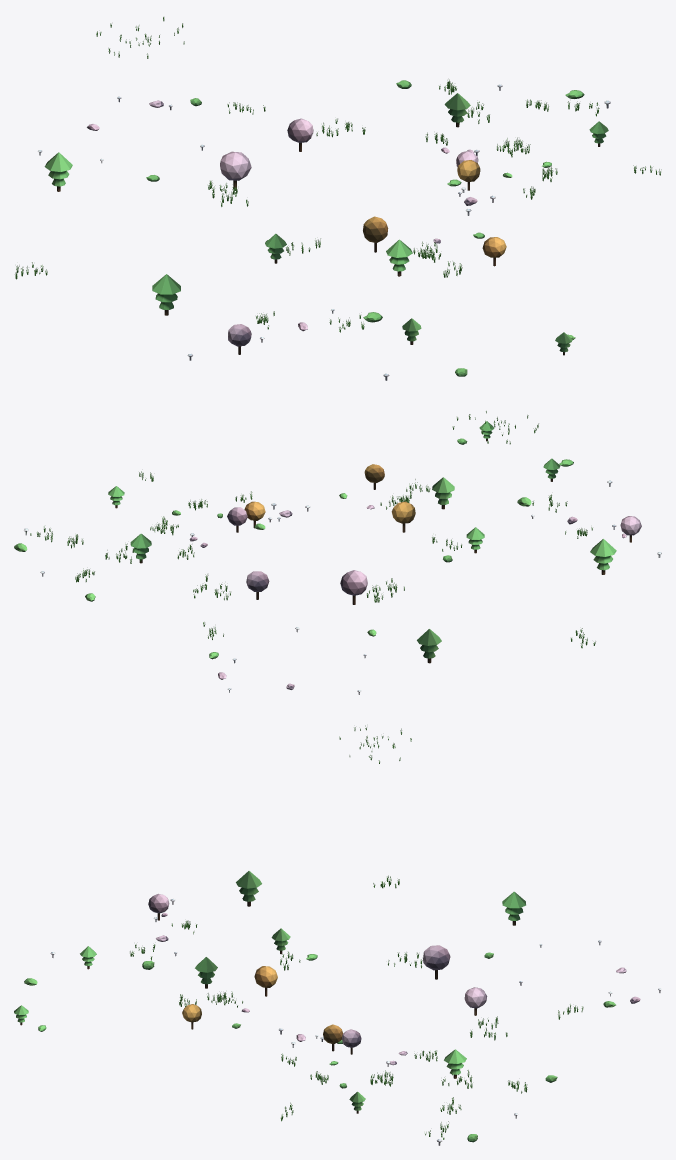
The model's file is foliage.glb.
3 renders of one model, top to bottom at view 1: azimuth 30°, elevation 25°; view 2: azimuth 150°, elevation 25°; view 3: azimuth 270°, elevation 25°, orthographic. The views are drawn at different scales.
Parts seen in each view (by area): view 1: tree_inst_sakur_01, tree_inst_green_04, tree_inst_green_03, tree_inst_red_m_00, tree_inst_green_00, tree_inst_sakur_03; view 2: tree_inst_sakur_01, tree_inst_green_04, tree_inst_green_03, tree_inst_red_m_00, tree_inst_green_00; view 3: no part large enough to name.
Part boxes in pixels (x1=…): tree_inst_sakur_01: x1=220, y1=151, x2=251, y2=190; tree_inst_green_04: x1=152, y1=274, x2=180, y2=315; tree_inst_green_03: x1=44, y1=152, x2=72, y2=191; tree_inst_red_m_00: x1=363, y1=216, x2=388, y2=252; tree_inst_green_00: x1=386, y1=239, x2=412, y2=276; tree_inst_sakur_03: x1=287, y1=118, x2=313, y2=151; tree_inst_sakur_01: x1=340, y1=570, x2=367, y2=604; tree_inst_green_04: x1=590, y1=539, x2=616, y2=574; tree_inst_green_03: x1=417, y1=629, x2=441, y2=663; tree_inst_red_m_00: x1=391, y1=501, x2=415, y2=532; tree_inst_green_00: x1=432, y1=477, x2=454, y2=509.
Bounding box in the file's own units: 98.67 × 34.13 × 102.
Materials: 7 (7 with a texture image).
